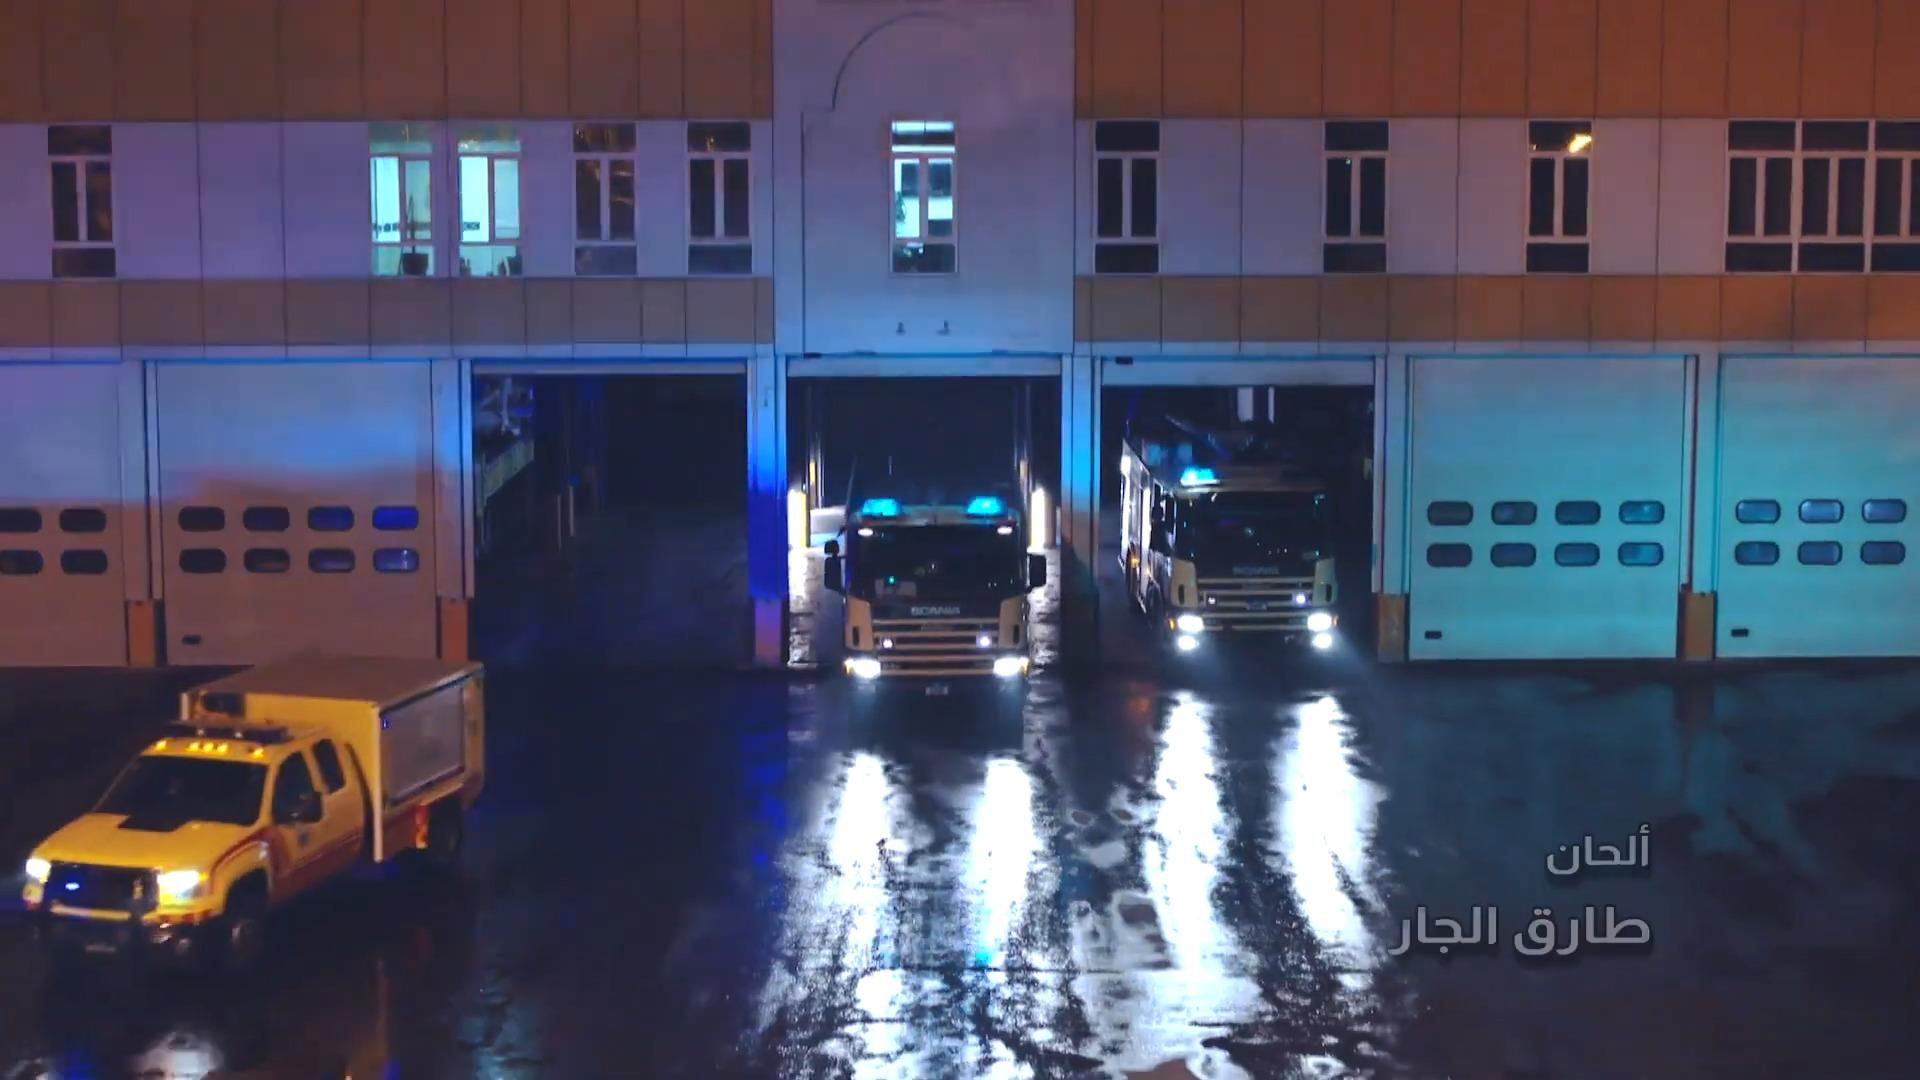firetruck_off: (22, 650, 485, 992)
firetruck_on: (823, 429, 1047, 742), (1116, 413, 1341, 667)
